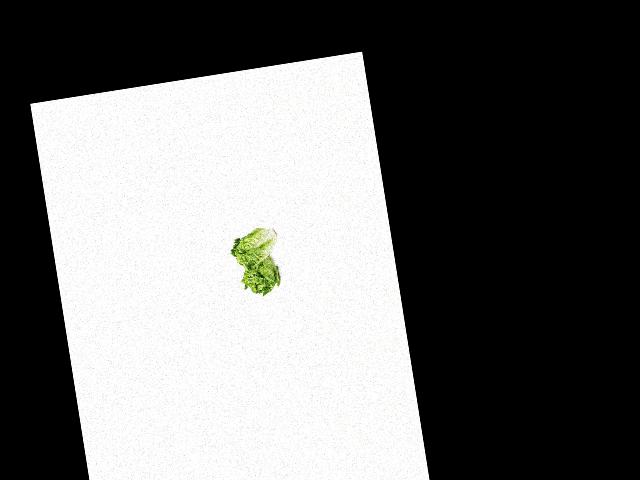lettuce: (237, 249, 288, 298)
